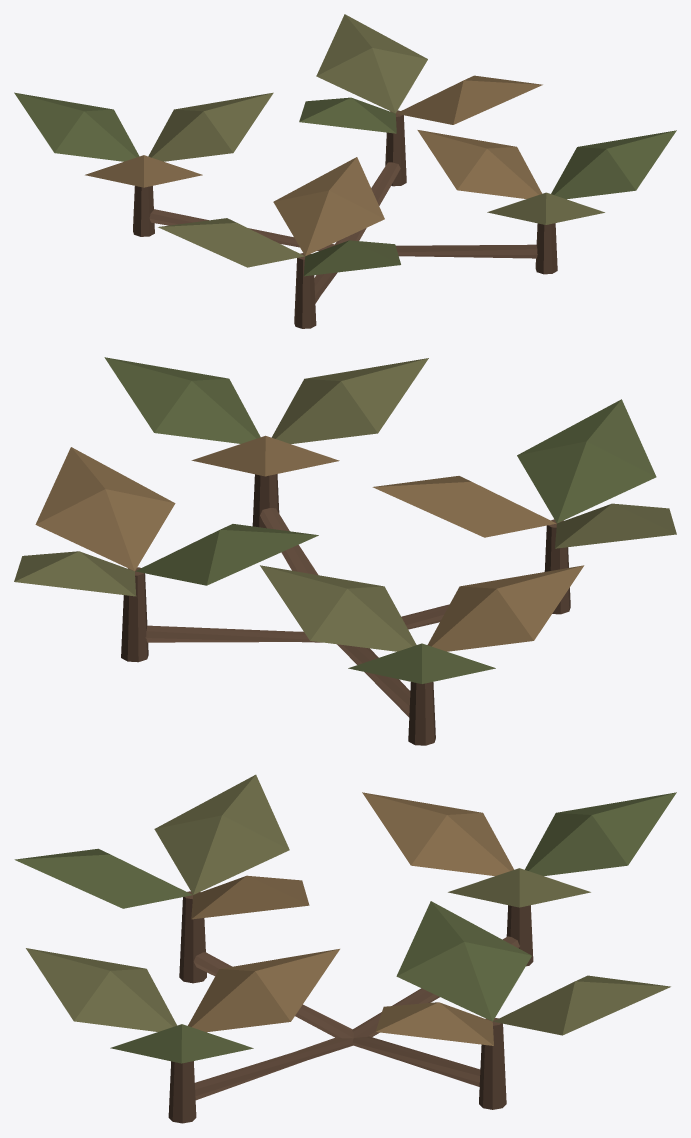
File: wild_strawberry_autumn.glb
The picture shows the model from 3 angles, top to bottom: view 1: azimuth 30°, elevation 25°; view 2: azimuth 150°, elevation 25°; view 3: azimuth 270°, elevation 25°; orthographic projection. The views are drawn at different scales.
Parts seen in each view (by area): view 1: wild_strawberry_autumn; view 2: wild_strawberry_autumn; view 3: wild_strawberry_autumn.
Part boxes in pixels (bbox=[...]): wild_strawberry_autumn: bbox=[14, 14, 676, 328]; wild_strawberry_autumn: bbox=[14, 357, 676, 745]; wild_strawberry_autumn: bbox=[14, 774, 676, 1123].
Size of the model in its own units: 1.28 by 0.27 by 1.24.
